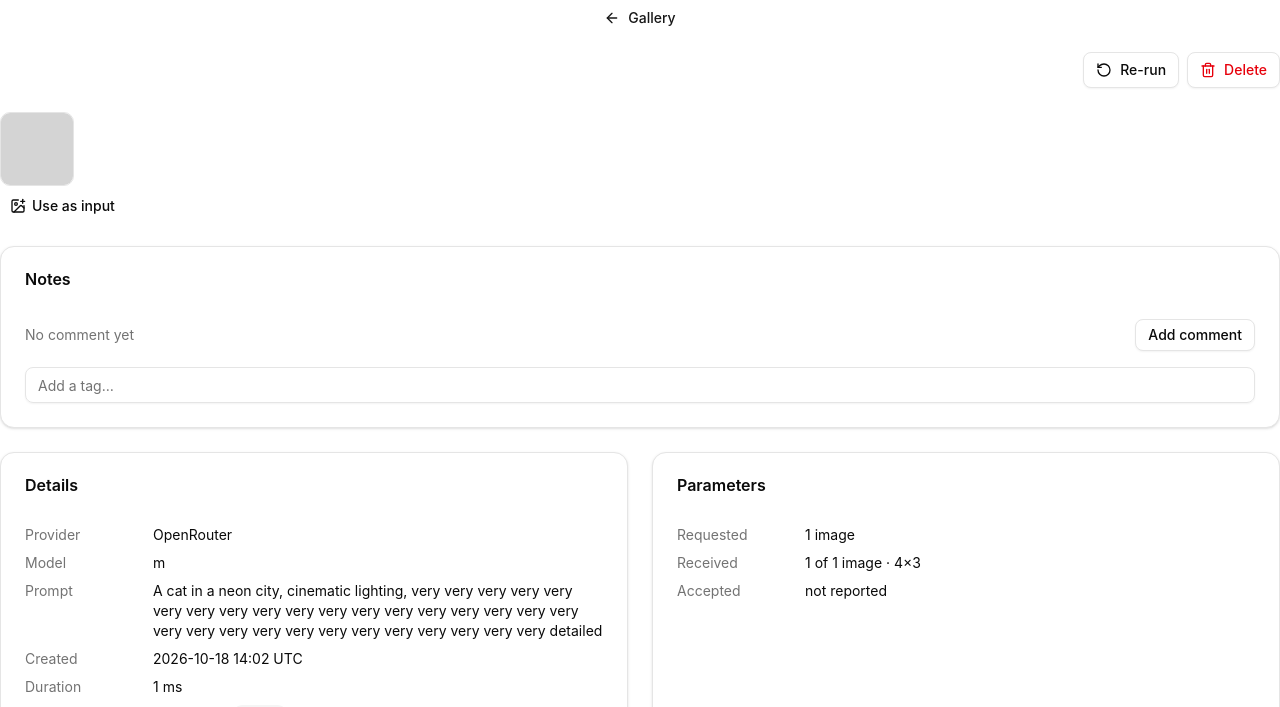
Test: Delete a generation (SCR-03) › asks for confirmation naming the prompt, and cancelling sends nothing
Click the button "Delete": (1234, 70) [1187,52,1279,88]
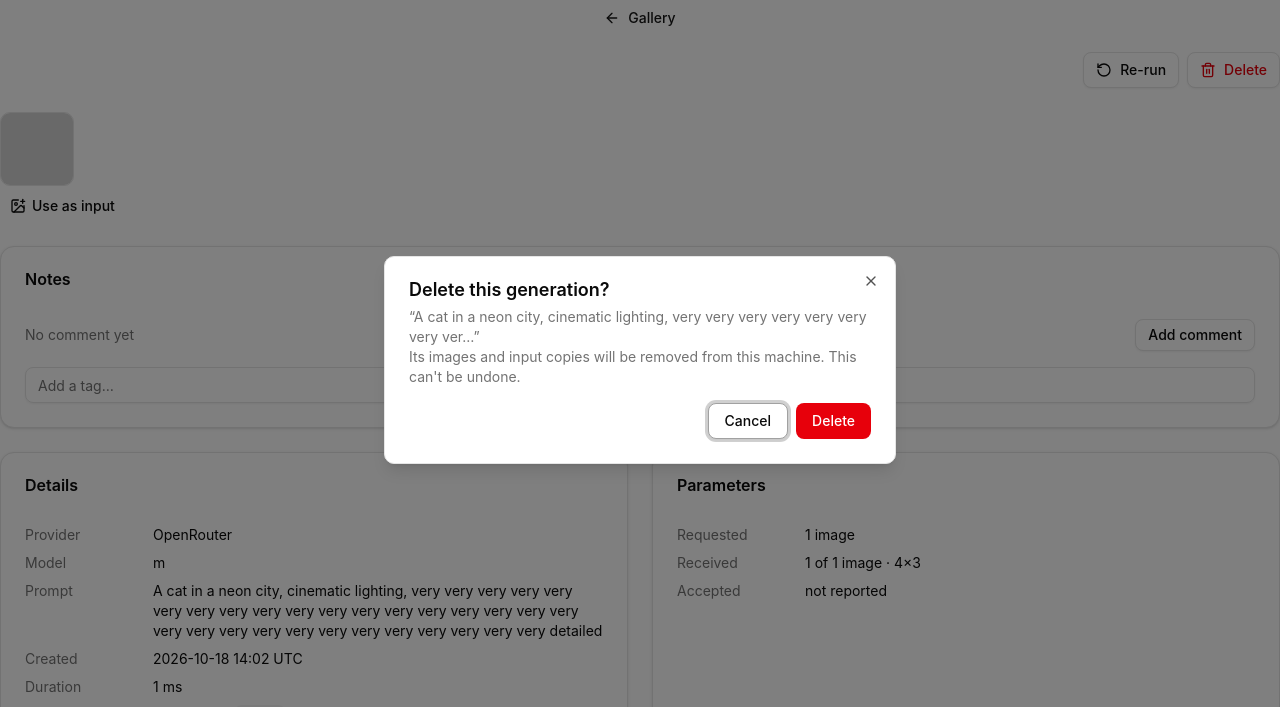
Result: the dialog "Delete this generation?" shows "A cat in a neon city, cinematic lighting" at [409,308,866,345]
Result: the dialog "Delete this generation?" shows "Its images and input copies will be removed from this machine. This can't be undone." at [409,348,857,385]
Click the button "Cancel": (748, 421) [708,403,788,439]
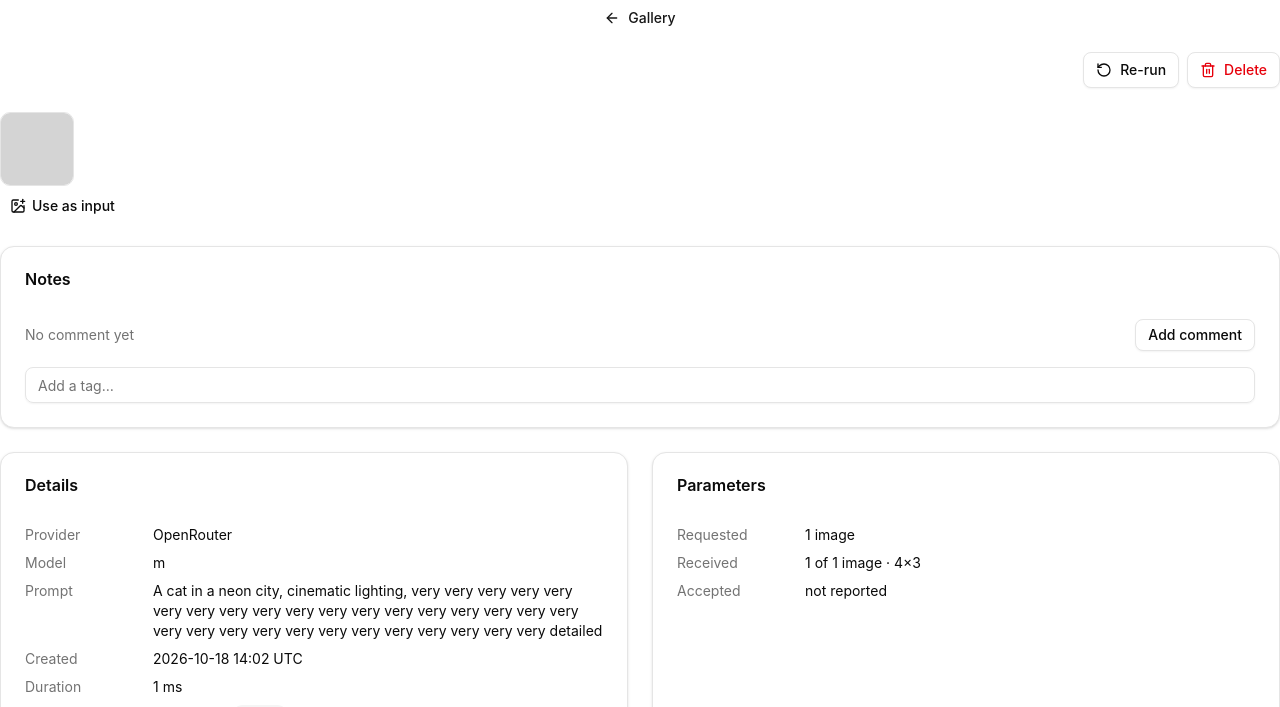
Result: the dialog is gone
